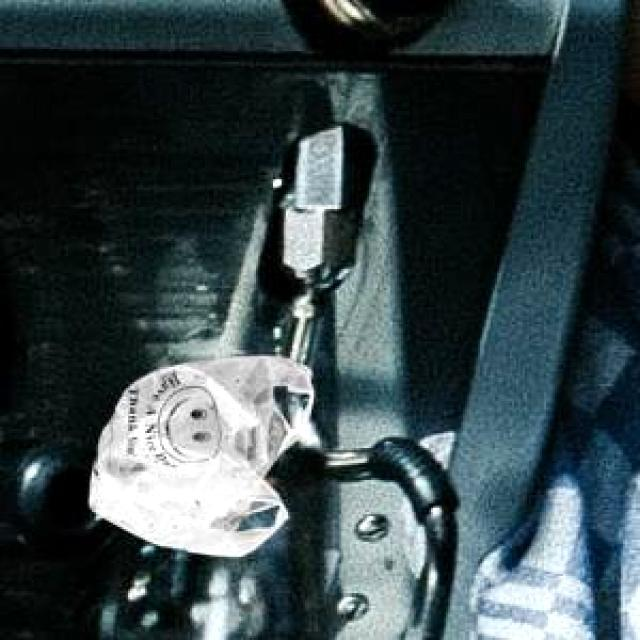Plastic_Bag: (87, 353, 310, 554)
